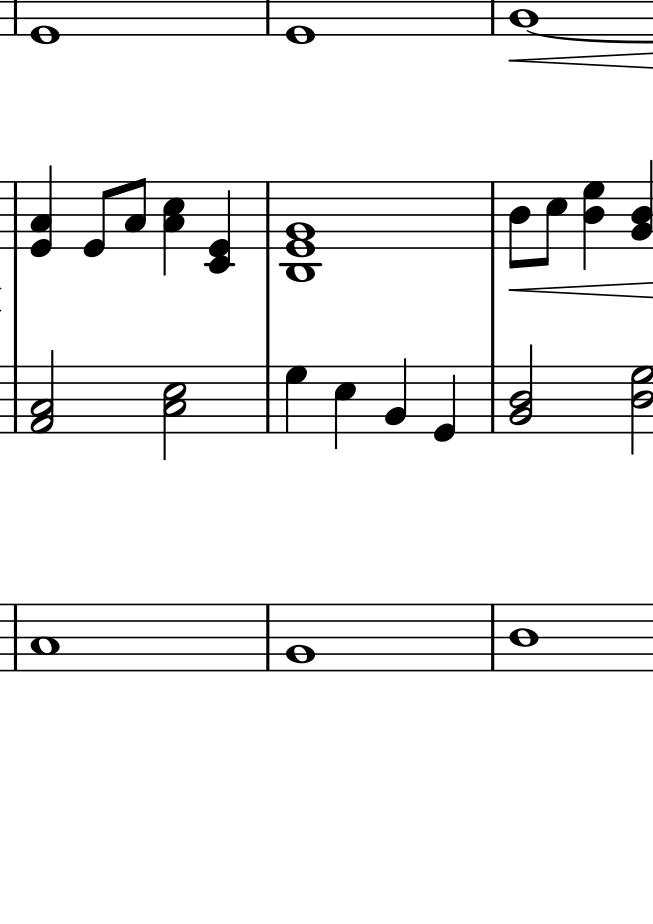1_2: (283, 601, 317, 673)
1_3: (507, 603, 541, 673), (30, 601, 59, 674)
1_th: (281, 185, 320, 284)
2_1_3: (28, 351, 57, 435)
2_2_4: (508, 343, 534, 435)
2_3_5: (162, 365, 187, 463)
2_4_7: (629, 362, 653, 457)
4_-2_0: (203, 180, 235, 274)
4_0: (433, 363, 458, 445)
4_0_3: (29, 165, 56, 260)
4_2: (382, 355, 409, 435)
4_2_4: (631, 159, 653, 250)
4_3_5: (161, 180, 186, 277)
4_4_7: (582, 179, 605, 270)
4_5: (332, 364, 357, 451)
4_7: (283, 365, 309, 435)
8_0: (81, 180, 112, 260)
8_3: (123, 176, 147, 251)
8_4: (508, 179, 531, 270)
8_5: (537, 179, 568, 268)
Single_barline: (5, 179, 24, 246), (258, 182, 277, 249), (259, 366, 278, 432), (484, 182, 502, 251), (484, 605, 502, 671), (6, 605, 23, 671), (259, 605, 276, 670), (7, 365, 23, 434), (485, 366, 501, 433)
